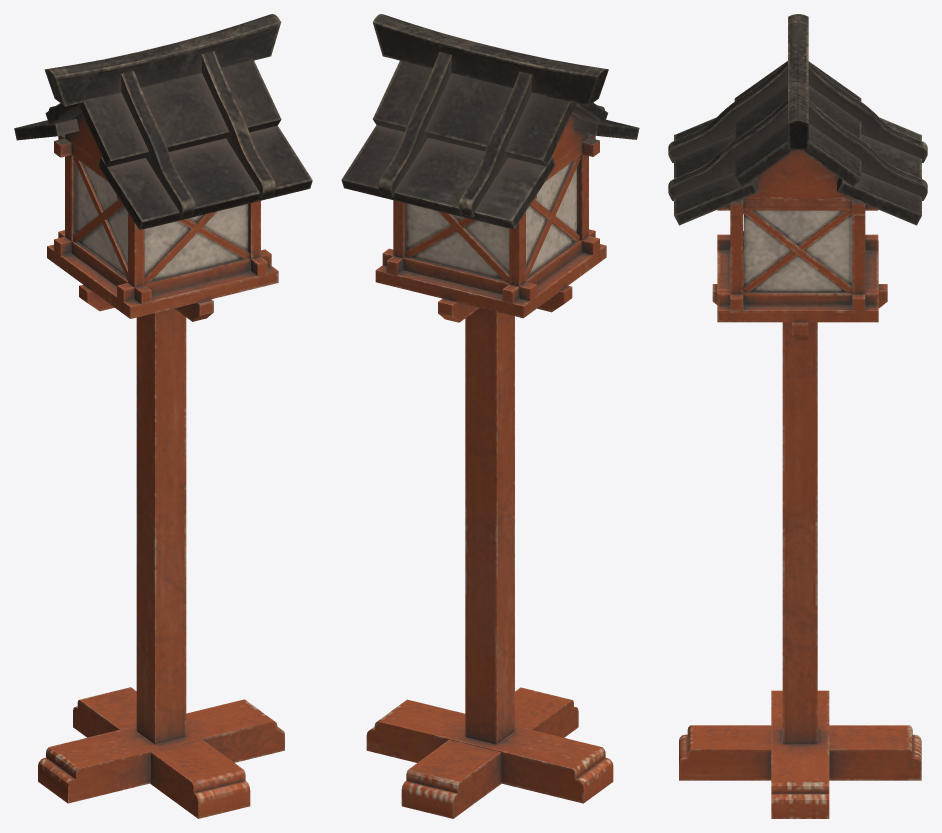
The model's file is JapanLEntern.fbx.
3 views of the same model, side by side, from view 1: azimuth 30°, elevation 25°; view 2: azimuth 150°, elevation 25°; view 3: azimuth 270°, elevation 25° (orthographic). The views are drawn at different scales.
Parts seen in each view (by area): view 1: SM_lamp_Wood; view 2: SM_lamp_Wood; view 3: SM_lamp_Wood.
Boxes of the visible parts, x1,y1,x2,y2 form: SM_lamp_Wood: (14, 14, 312, 818); SM_lamp_Wood: (341, 14, 639, 818); SM_lamp_Wood: (668, 14, 927, 818).
Size of what is drawn, in the model's own units: 0.5957 by 1.82 by 0.6115.
